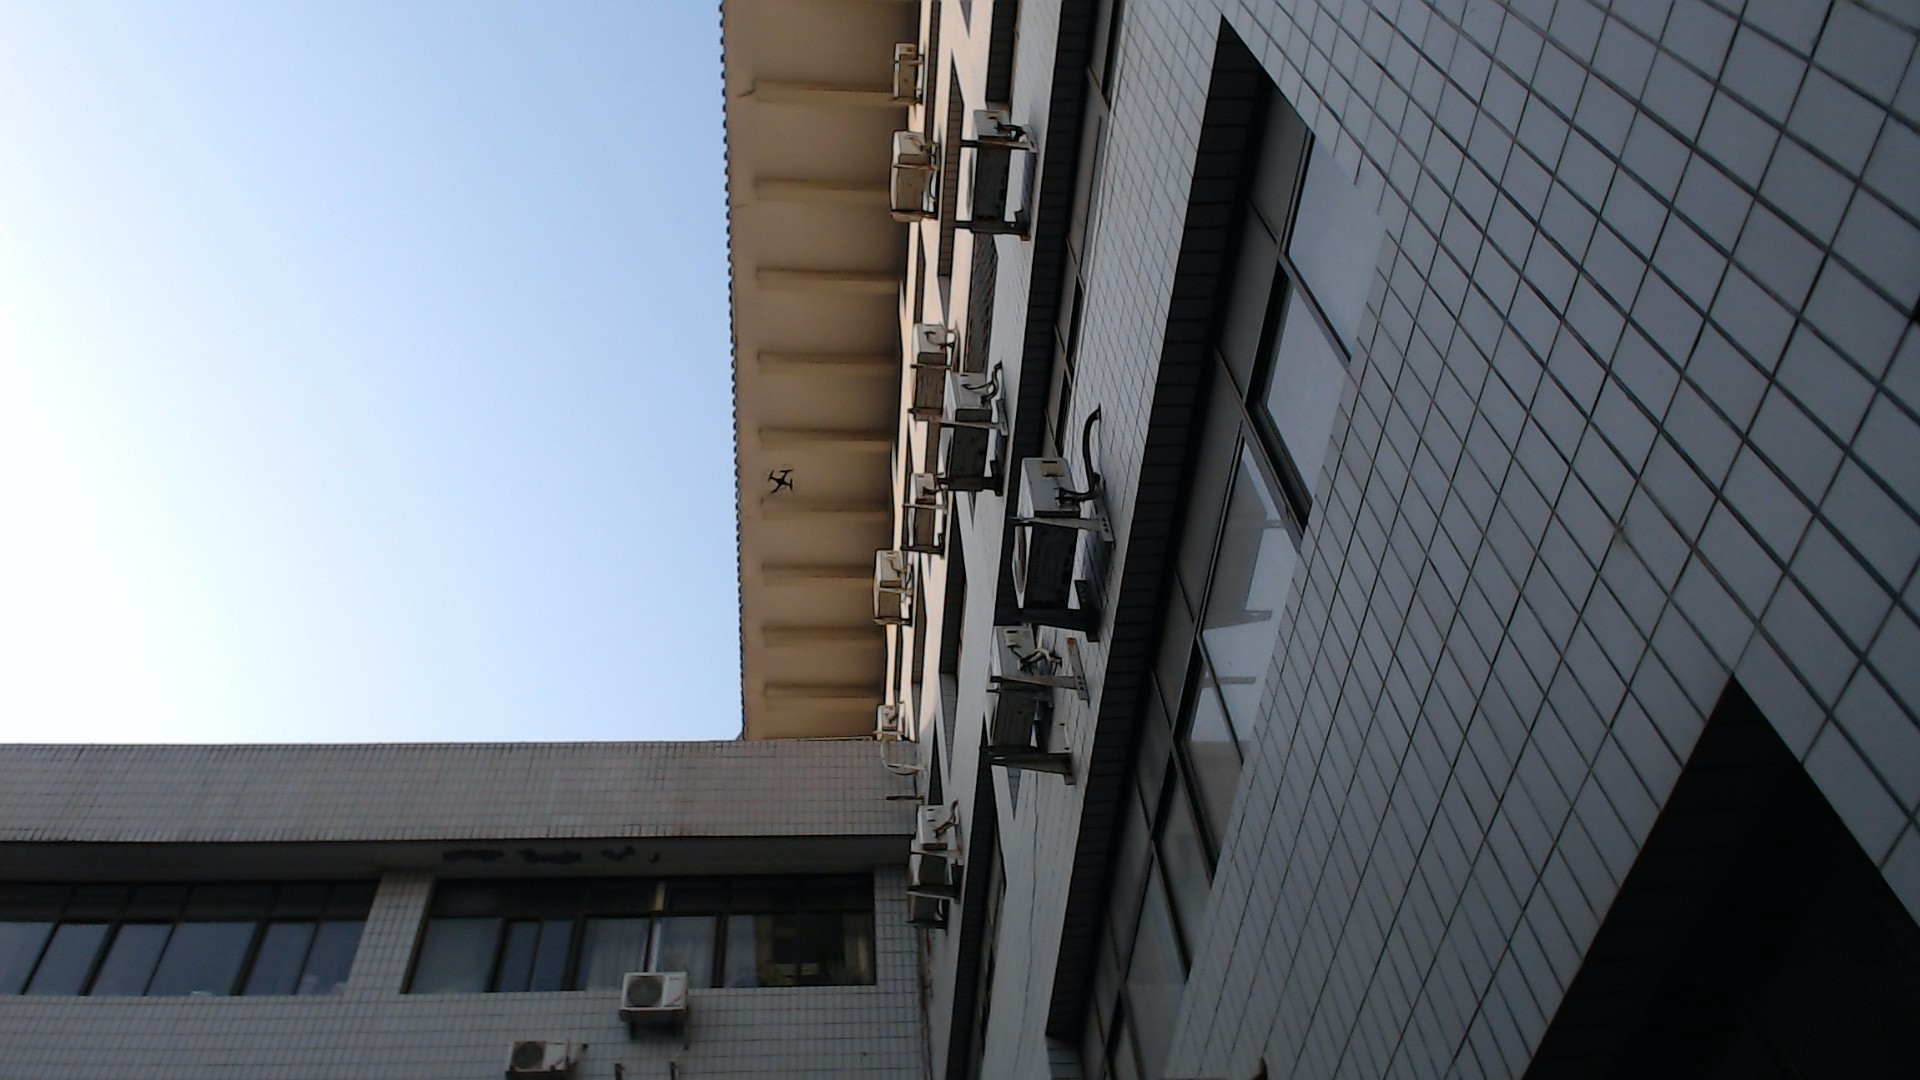drone: (760, 463, 799, 500)
